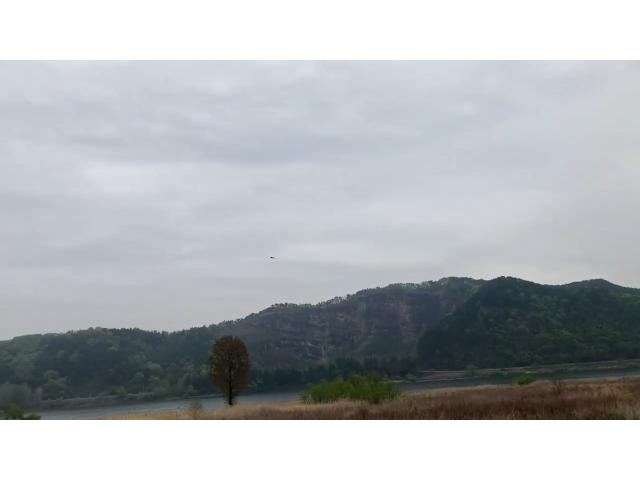Anti-Drone: (264, 247, 284, 266)
